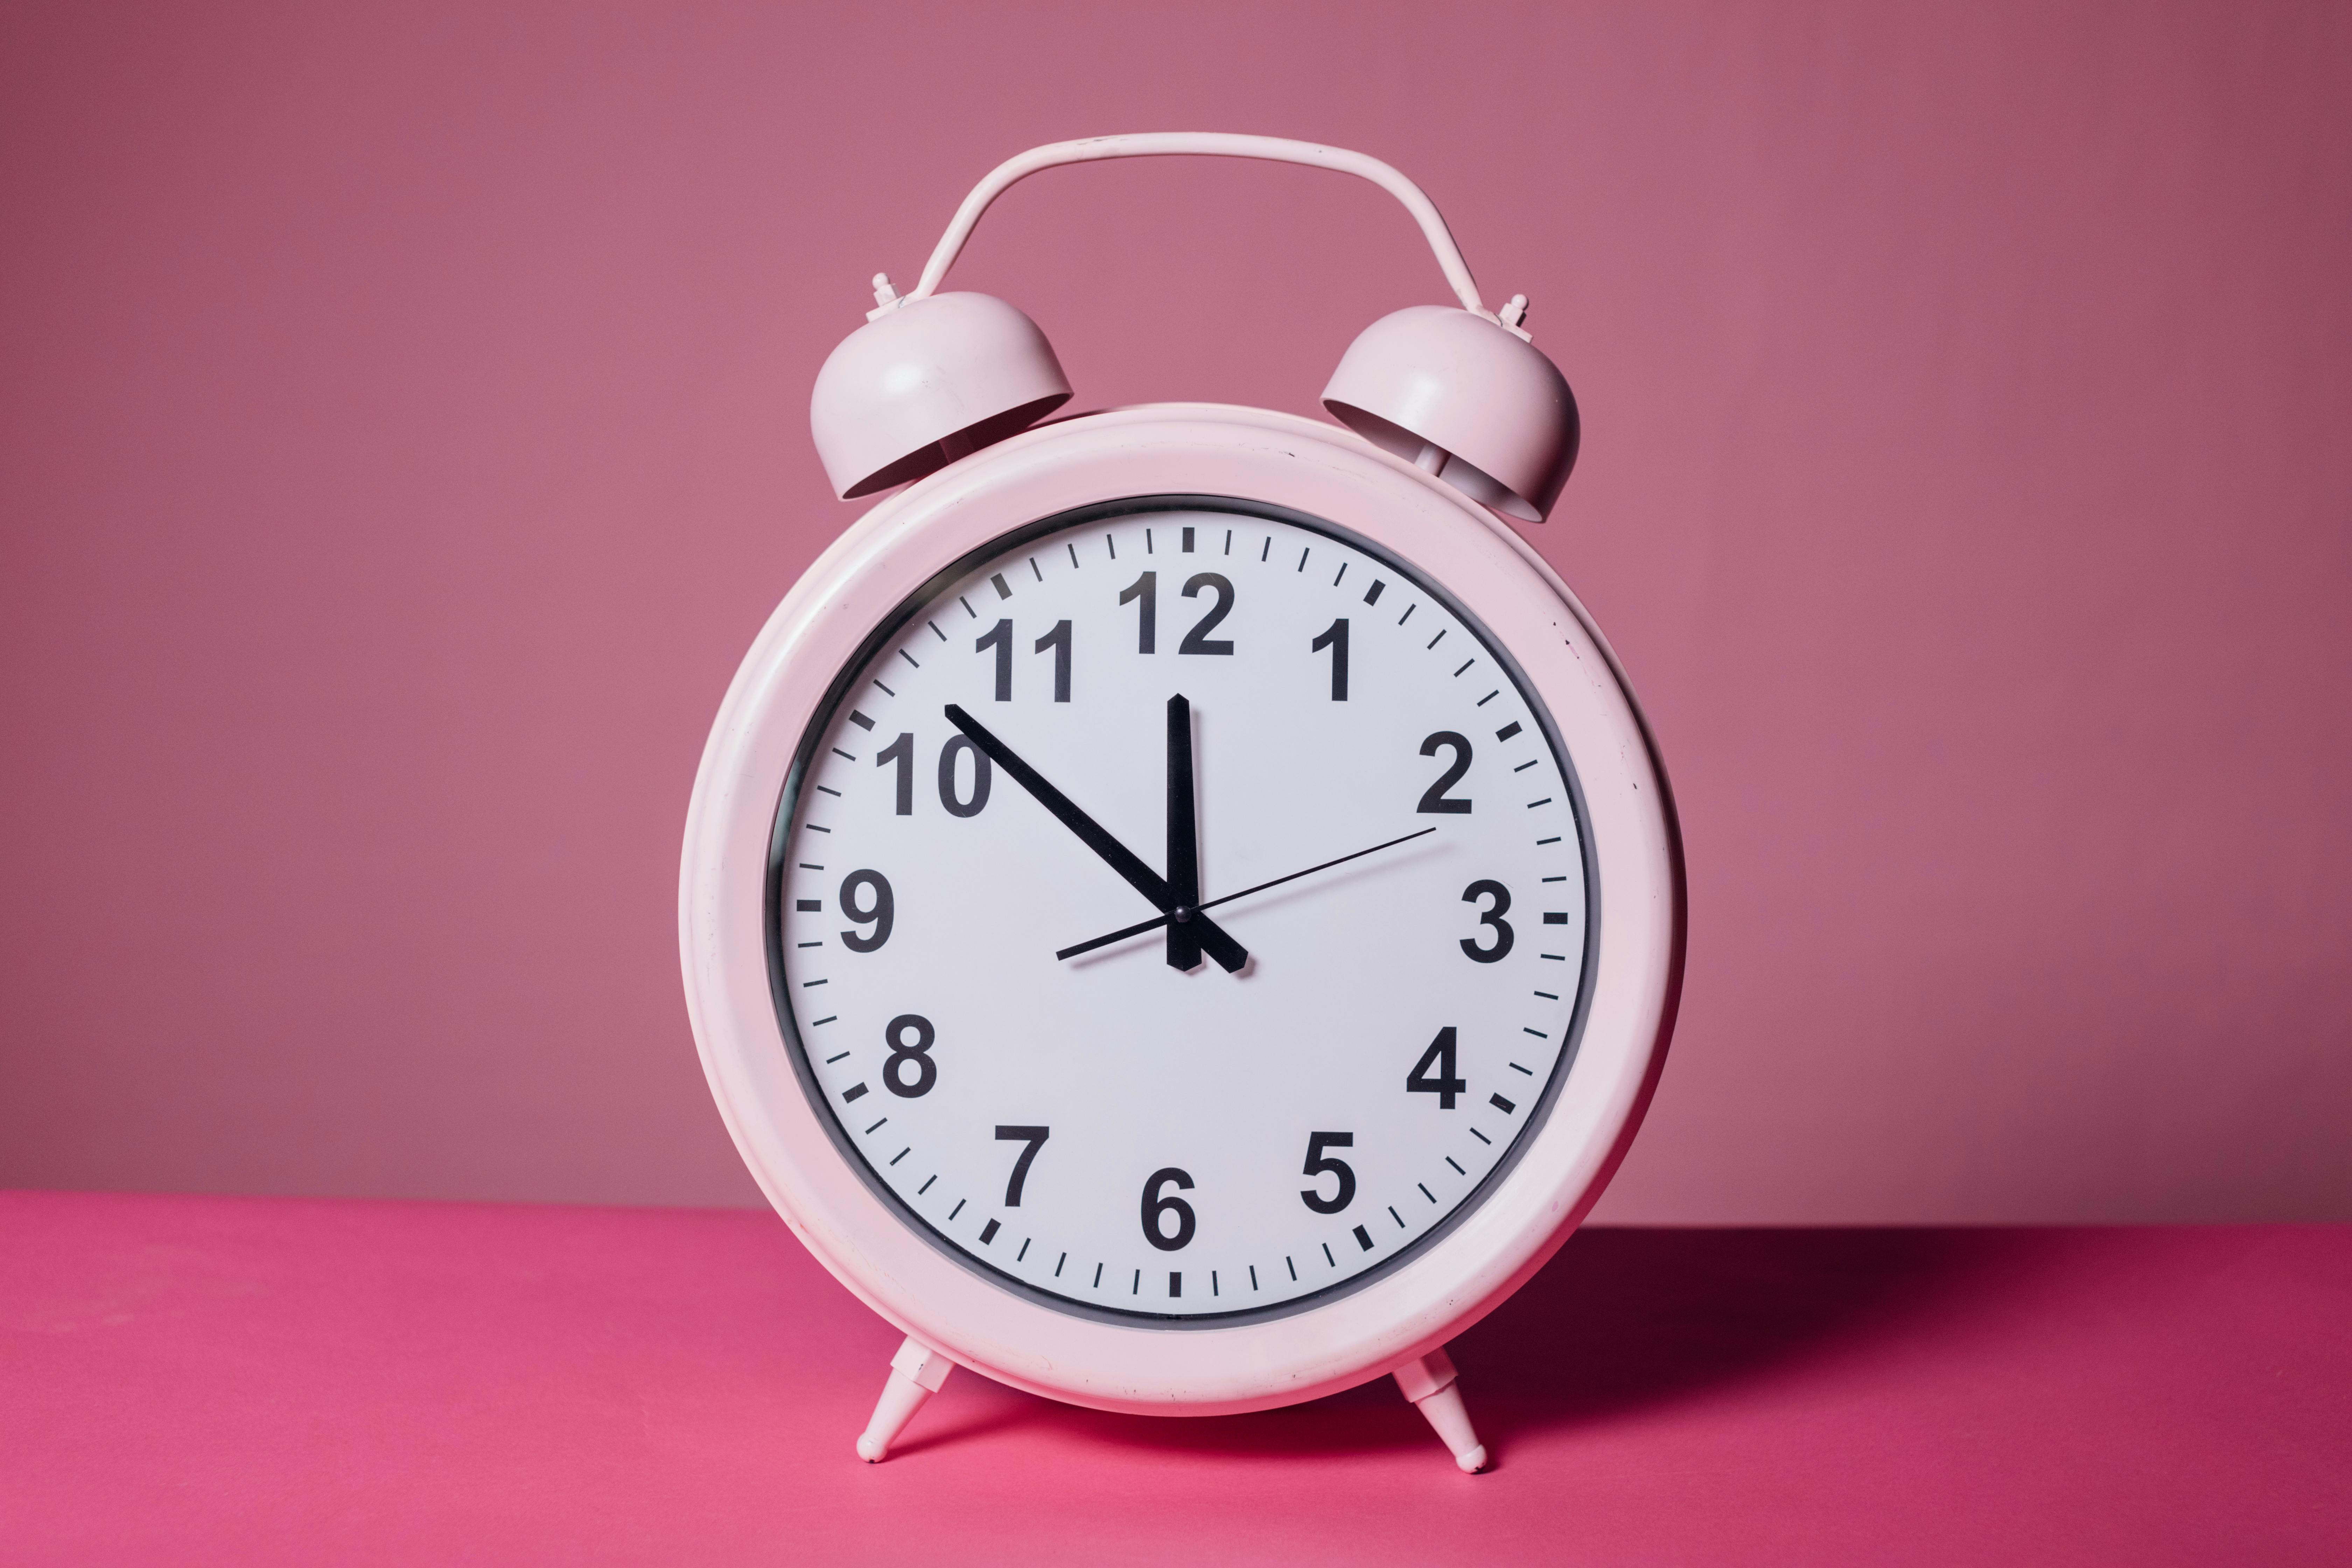clock: (633, 227, 1813, 1398)
